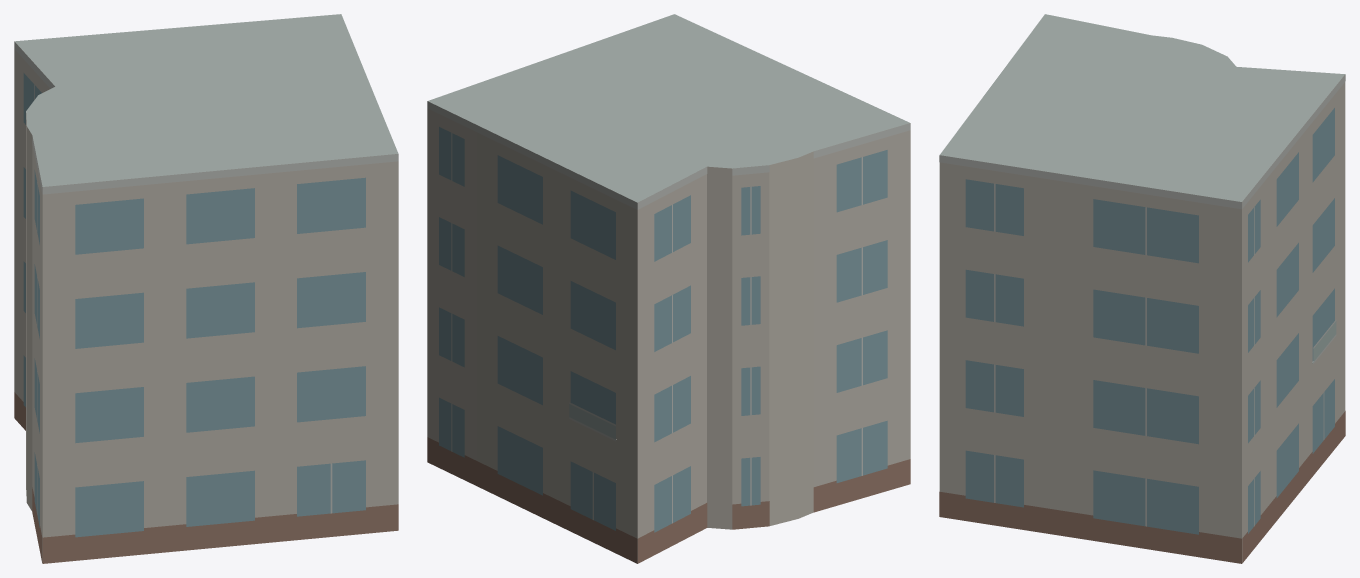
The model's file is survey-upis-32893886.glb.
3 views of the same model, side by side, from view 1: azimuth 30°, elevation 25°; view 2: azimuth 150°, elevation 25°; view 3: azimuth 270°, elevation 25° (orthographic). The views are drawn at different scales.
Visible parts, largest first — view 1: survey-upis-32893886.tmp; view 2: survey-upis-32893886.tmp; view 3: survey-upis-32893886.tmp.
Part boxes in pixels (box(x1,y1,x2,y2)): survey-upis-32893886.tmp: box(14, 14, 398, 563); survey-upis-32893886.tmp: box(427, 14, 910, 563); survey-upis-32893886.tmp: box(939, 14, 1345, 563).
Bounding box in the file's own units: 13.61 × 12.2 × 12.42.
